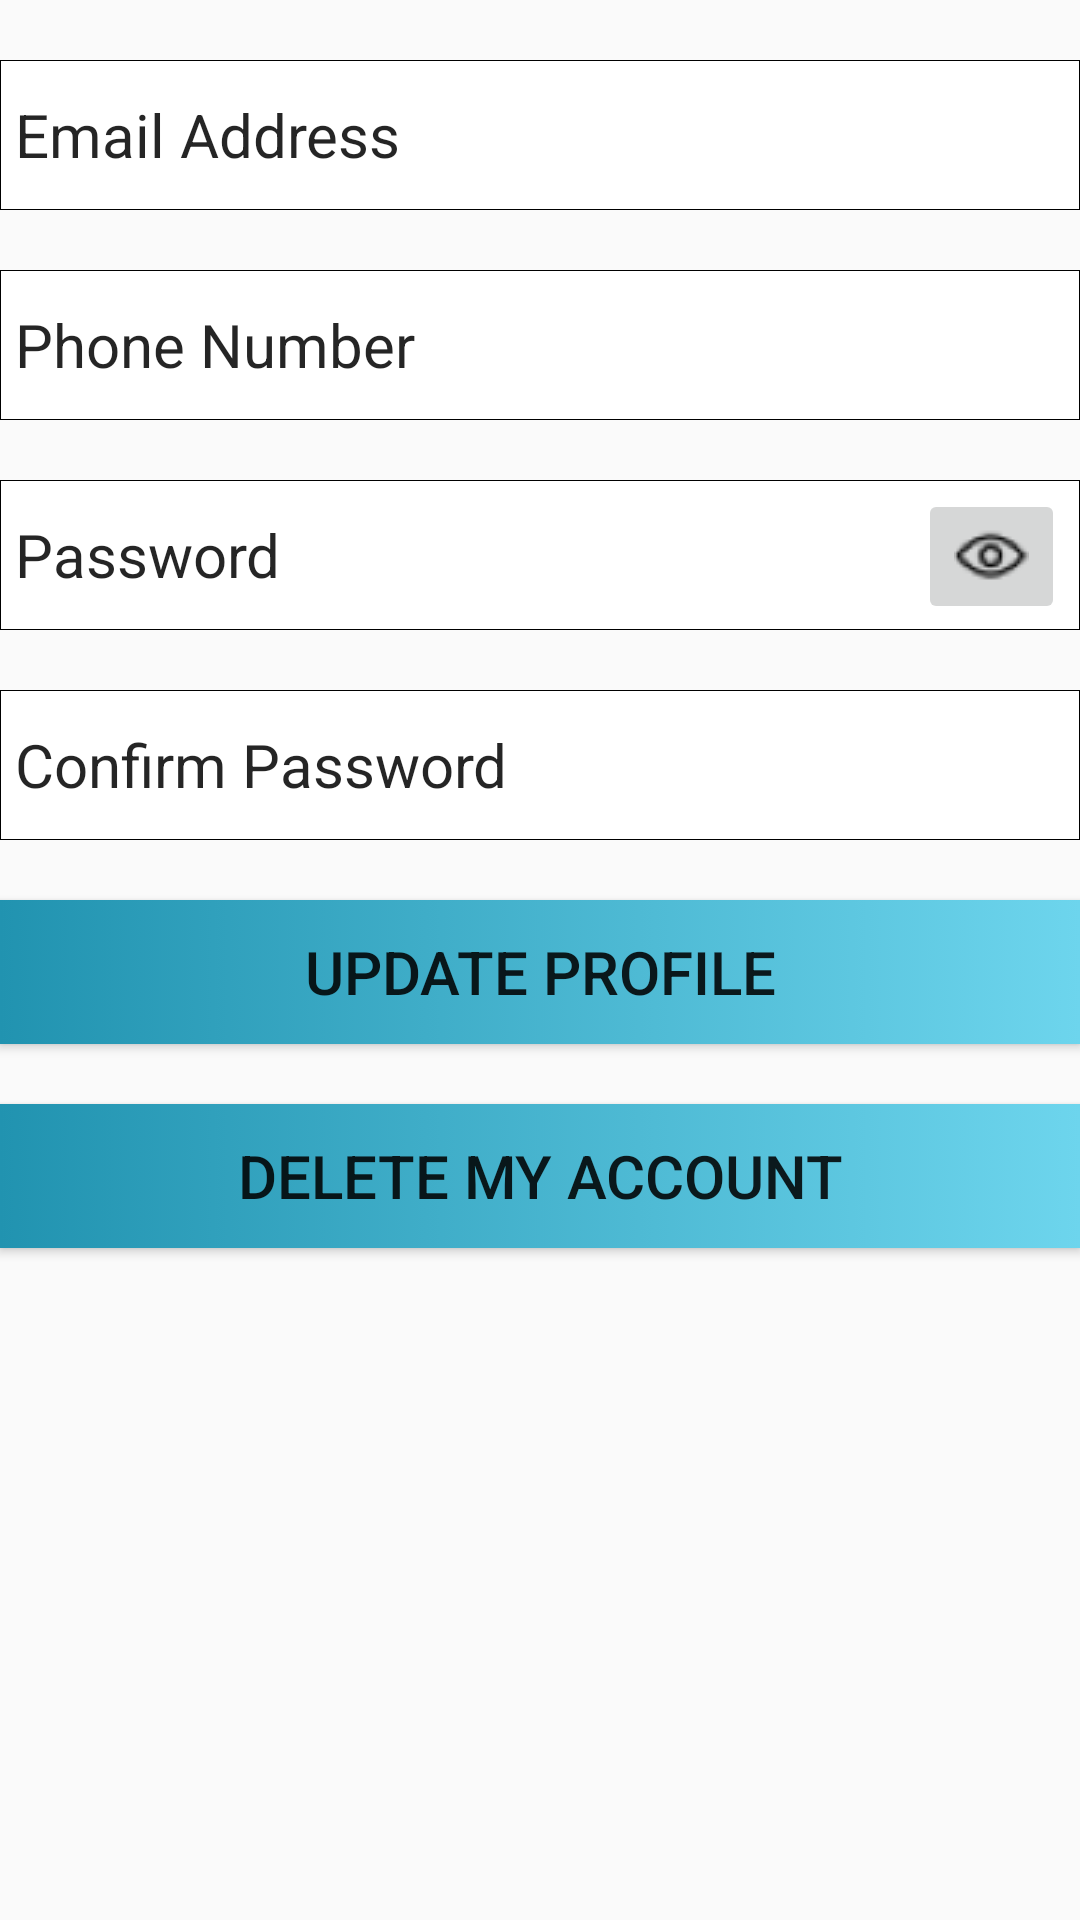

Point at icon controls on the screen. Image size 1080px x 1920px, points as [x,y].
view: [991,556]
